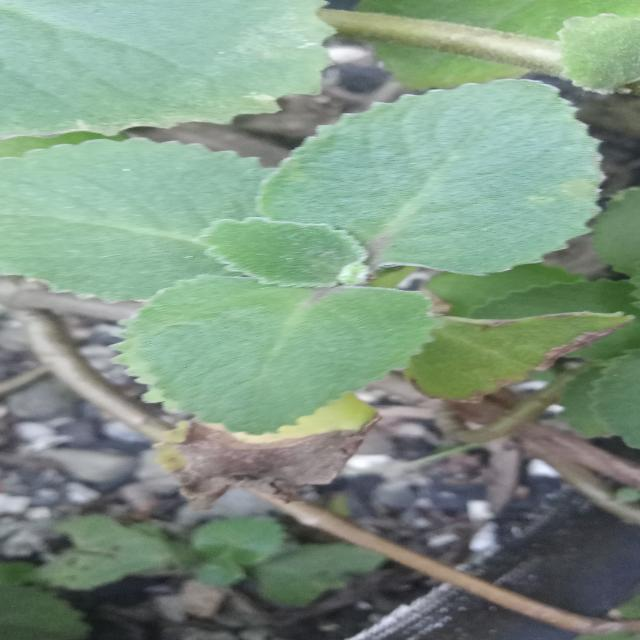Oregano: (237, 71, 640, 300)
